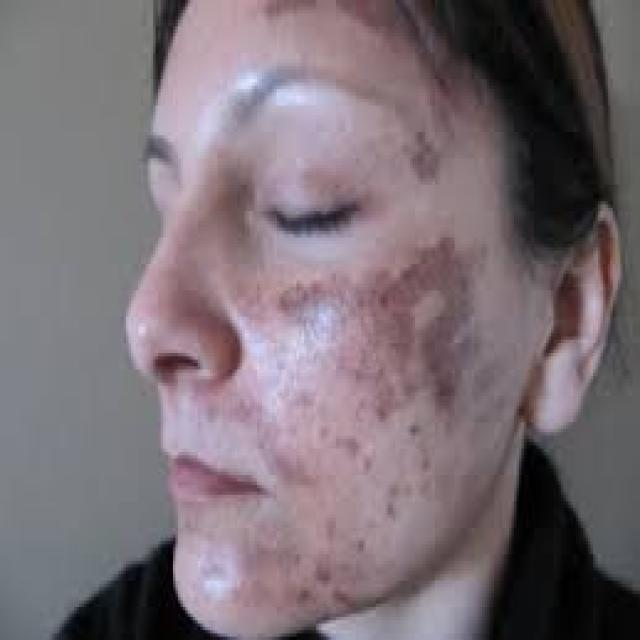burn: (129, 175, 512, 624), (411, 124, 449, 198)
